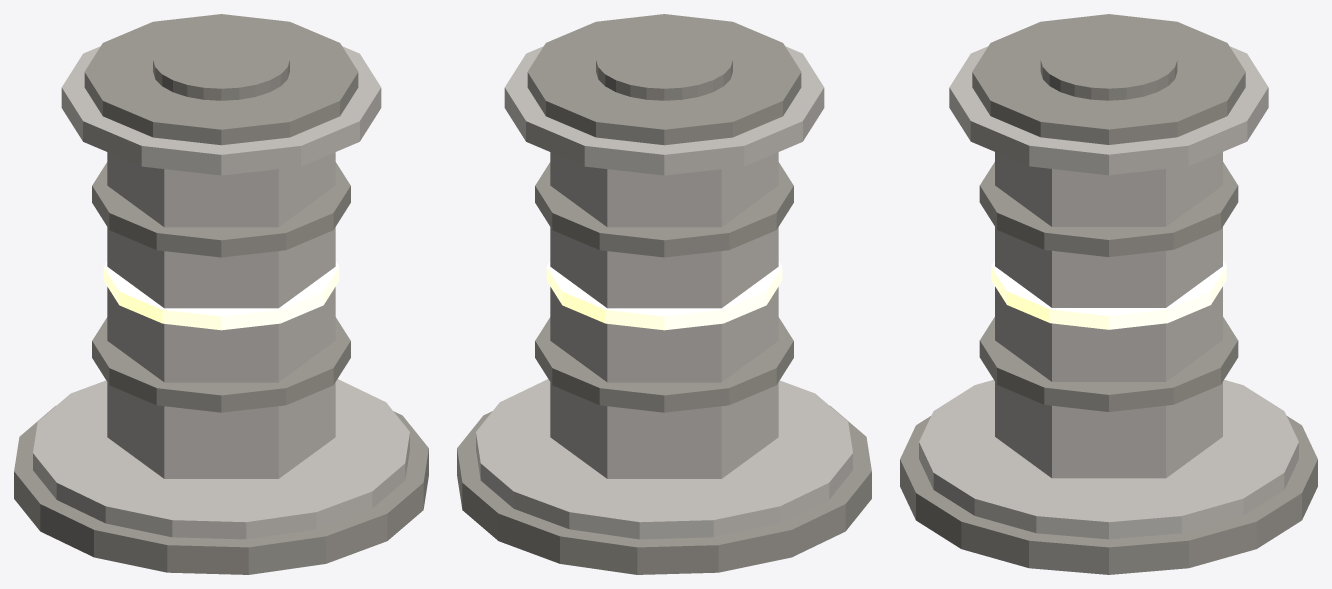
The model's file is TuningPedestal.fbx.
3 renders of one model, left to right at view 1: azimuth 30°, elevation 25°; view 2: azimuth 150°, elevation 25°; view 3: azimuth 270°, elevation 25°, orthographic.
Parts seen in each view (by area): view 1: TuningPedestal; view 2: TuningPedestal; view 3: TuningPedestal.
Boxes of the visible parts, box(x1,y1,x2,y2) form: TuningPedestal: box(14, 14, 428, 574); TuningPedestal: box(457, 14, 871, 574); TuningPedestal: box(900, 14, 1317, 574).
Size of the model in its own units: 110 by 124 by 110.
